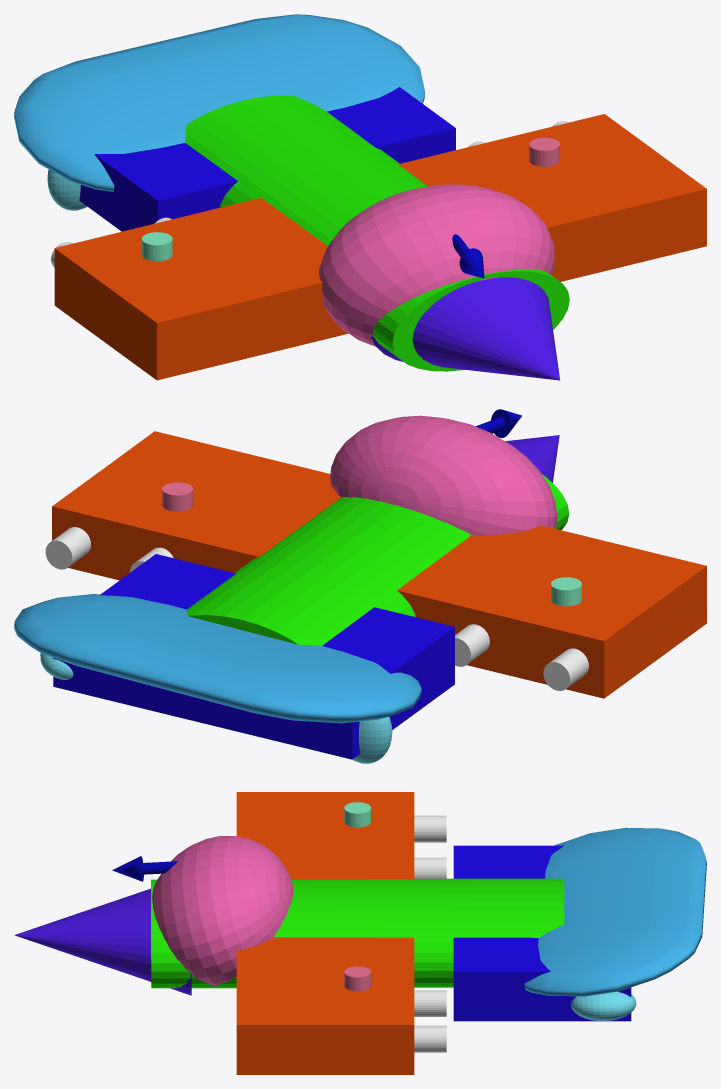
Rendered from rocket2.fbx.
3 views of the same model, one above another, from view 1: azimuth 30°, elevation 25°; view 2: azimuth 150°, elevation 25°; view 3: azimuth 270°, elevation 25° (orthographic). The views are drawn at different scales.
Parts seen in each view (by area): view 1: Cube, Mball, Cylinder, Sphere.002, Cube.001, Cone, Sphere.001, Cylinder.005, Cylinder.006, arrow_z; view 2: Cube, Mball, Cylinder, Cube.001, Sphere.002, Cylinder.001, Sphere.001, Cylinder.004, Cone, Cylinder.002, Cylinder.006, Cylinder.005 (+1 smaller); view 3: Cube, Mball, Cylinder, Sphere.002, Cube.001, Cone, Sphere, Cylinder.001, Cylinder.004, Cylinder.003, arrow_z, Cylinder.002 (+2 smaller).
Boxes of the visible parts, left/top/right/bottom form: Cube: left=54, top=114, right=706, bottom=380; Mball: left=14, top=14, right=425, bottom=191; Cylinder: left=185, top=95, right=569, bottom=371; Sphere.002: left=318, top=184, right=554, bottom=346; Cube.001: left=79, top=87, right=455, bottom=231; Cone: left=371, top=277, right=560, bottom=380; Sphere.001: left=47, top=169, right=86, bottom=210; Cylinder.005: left=142, top=232, right=172, bottom=261; Cylinder.006: left=529, top=137, right=559, bottom=166; arrow_z: left=452, top=234, right=484, bottom=278; Cube: left=52, top=431, right=706, bottom=698; Mball: left=14, top=594, right=421, bottom=723; Cylinder: left=186, top=474, right=569, bottom=645; Cube.001: left=53, top=554, right=454, bottom=759; Sphere.002: left=330, top=415, right=557, bottom=535; Cylinder.001: left=543, top=648, right=588, bottom=690; Sphere.001: left=352, top=716, right=392, bottom=763; Cylinder.004: left=45, top=527, right=90, bottom=569; Cone: left=505, top=435, right=559, bottom=482; Cylinder.002: left=455, top=624, right=489, bottom=666; Cylinder.006: left=162, top=482, right=193, bottom=511; Cylinder.005: left=551, top=577, right=581, bottom=606; Cube: left=236, top=792, right=414, bottom=1074; Mball: left=524, top=827, right=706, bottom=996; Cylinder: left=151, top=878, right=564, bottom=988; Sphere.002: left=150, top=836, right=293, bottom=985; Cube.001: left=453, top=845, right=631, bottom=1021; Cone: left=14, top=888, right=191, bottom=995; Sphere: left=571, top=991, right=636, bottom=1021; Cylinder.001: left=414, top=815, right=446, bottom=842; Cylinder.004: left=414, top=1025, right=446, bottom=1052; Cylinder.003: left=414, top=990, right=446, bottom=1016; arrow_z: left=112, top=856, right=177, bottom=881; Cylinder.002: left=414, top=857, right=446, bottom=878.
Bounding box in the file's own units: 620 × 164 × 780.
